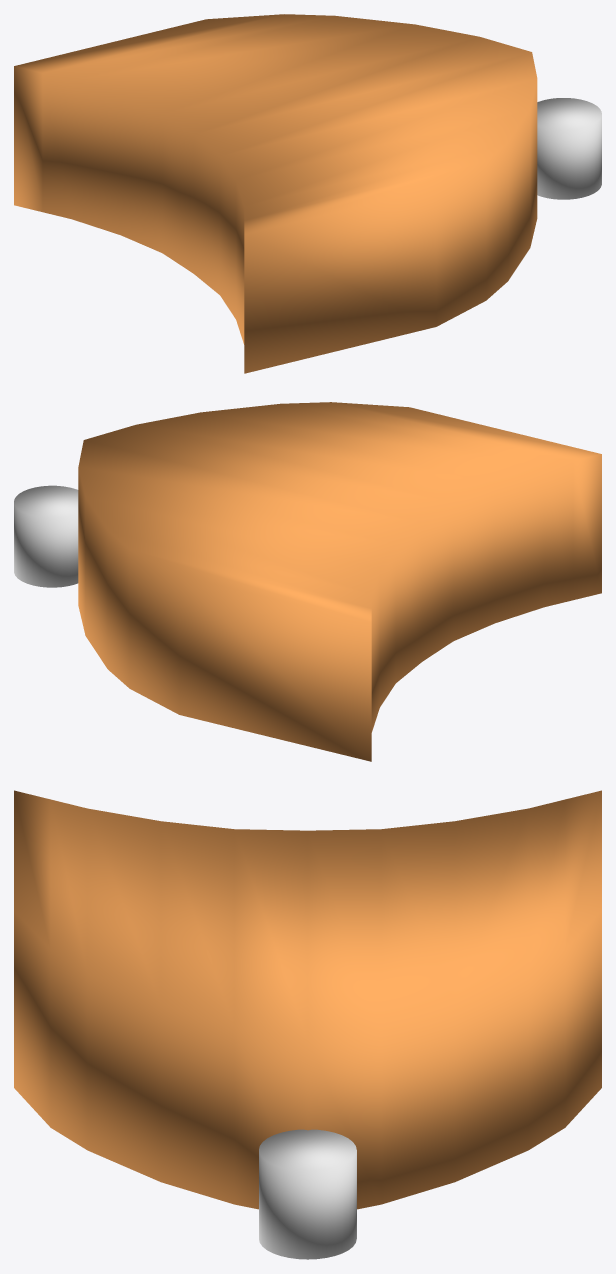
3 renders of one model, top to bottom at view 1: azimuth 30°, elevation 25°; view 2: azimuth 150°, elevation 25°; view 3: azimuth 270°, elevation 25°, orthographic. The views are drawn at different scales.
Parts seen in each view (by area): view 1: 3, Cot3; view 2: 3, Cot3; view 3: 3, Cot3.
Boxes of the visible parts, x1,y1,x2,y2 form: 3: (14, 14, 537, 373); Cot3: (537, 98, 601, 199); 3: (78, 402, 601, 761); Cot3: (14, 485, 78, 587); 3: (14, 790, 601, 1209); Cot3: (259, 1129, 356, 1259).
Size of the model in its own units: 3.52 by 1 by 3.
